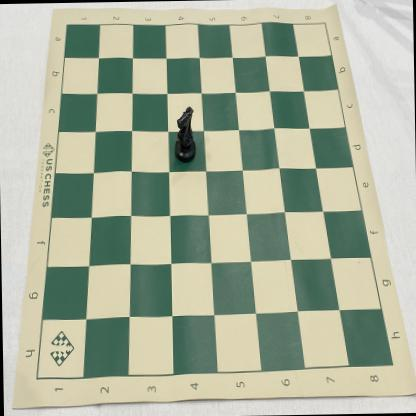knight: (173, 107, 196, 162)
